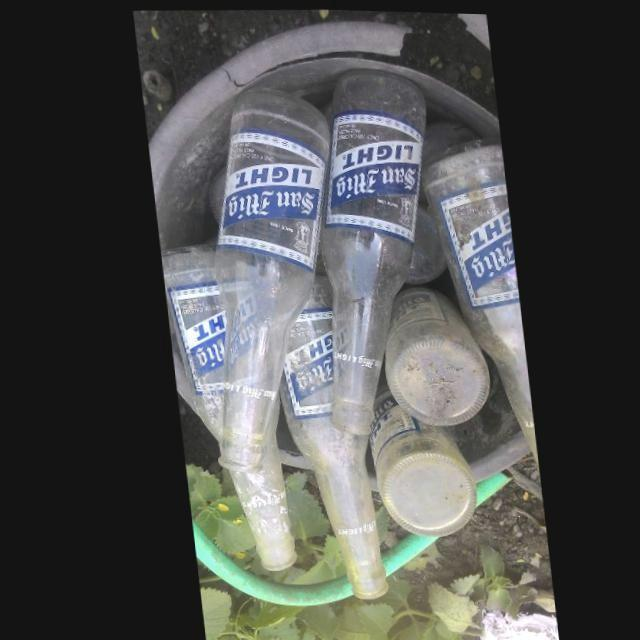glass_bottle: (209, 84, 328, 471), (315, 65, 424, 432), (422, 137, 531, 465), (271, 271, 377, 597), (362, 373, 469, 534), (376, 278, 483, 423), (155, 240, 218, 439), (221, 421, 285, 568)
